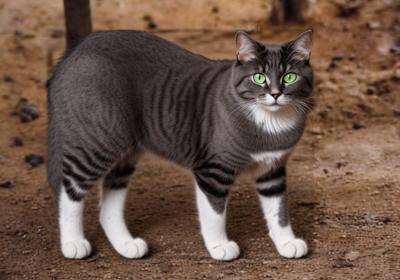cat: (46, 29, 313, 258)
